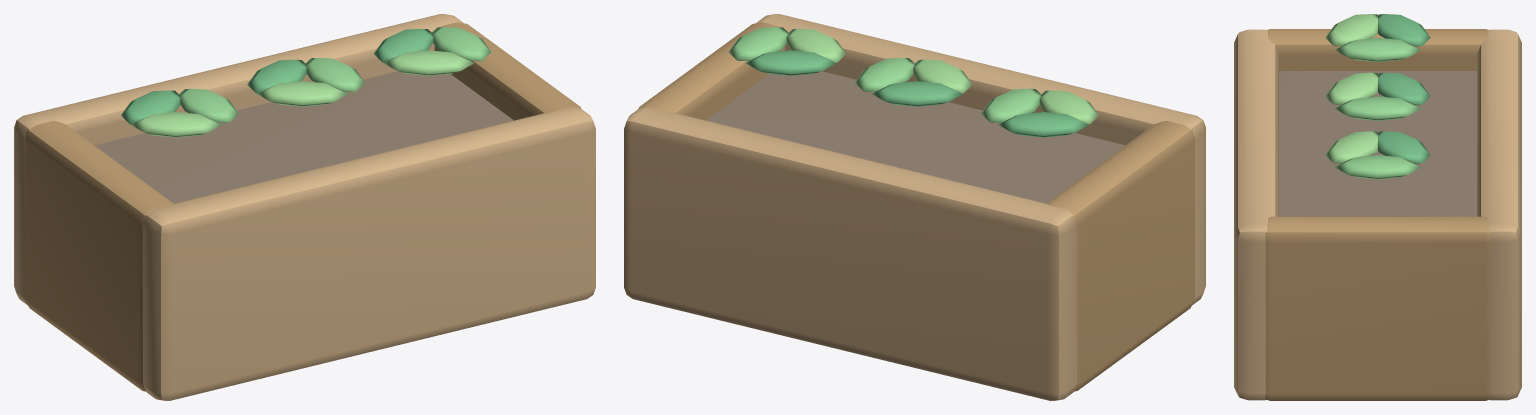
File: planter_summer_v1.glb
The picture shows the model from 3 angles, left to right: view 1: azimuth 30°, elevation 25°; view 2: azimuth 150°, elevation 25°; view 3: azimuth 270°, elevation 25°; orthographic projection. The views are drawn at different scales.
Parts seen in each view (by area): view 1: Base_PlanterWall (×2), Base_PlanterEnd (×2), Base_Soil, Season_LeafSprig (×3); view 2: Base_PlanterWall (×2), Base_PlanterEnd (×2), Base_Soil, Season_LeafSprig (×3); view 3: Base_PlanterEnd (×2), Base_PlanterWall (×2), Base_Soil, Season_LeafSprig (×3).
Boxes of the visible parts, bbox=[...] form: Base_PlanterWall (×2): bbox=[14, 14, 595, 400]; Base_PlanterEnd (×2): bbox=[25, 22, 581, 391]; Base_Soil: bbox=[94, 71, 513, 203]; Season_LeafSprig (×3): bbox=[121, 27, 490, 137]; Base_PlanterWall (×2): bbox=[624, 14, 1205, 400]; Base_PlanterEnd (×2): bbox=[638, 22, 1194, 391]; Base_Soil: bbox=[706, 71, 1125, 203]; Season_LeafSprig (×3): bbox=[729, 27, 1098, 137]; Base_PlanterEnd (×2): bbox=[1265, 29, 1490, 400]; Base_PlanterWall (×2): bbox=[1234, 29, 1521, 400]; Base_Soil: bbox=[1279, 71, 1476, 216]; Season_LeafSprig (×3): bbox=[1325, 14, 1430, 179].
Size of the model in its own units: 1.41 by 0.6825 by 0.83.
